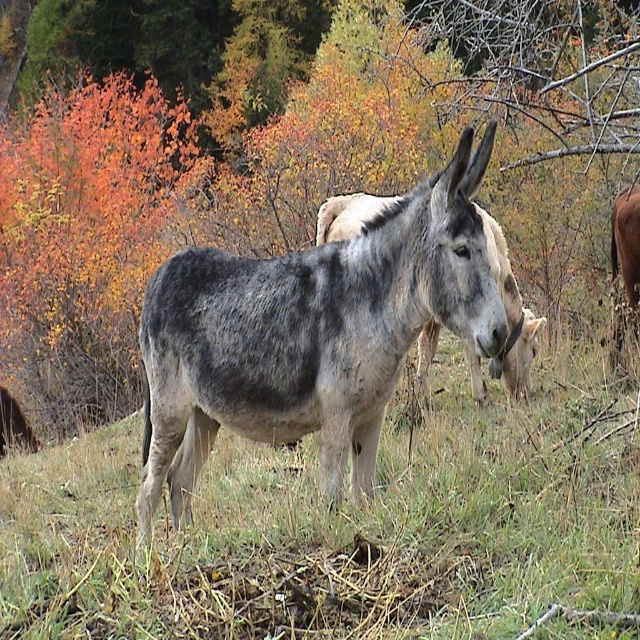Mule: (135, 117, 510, 569)
